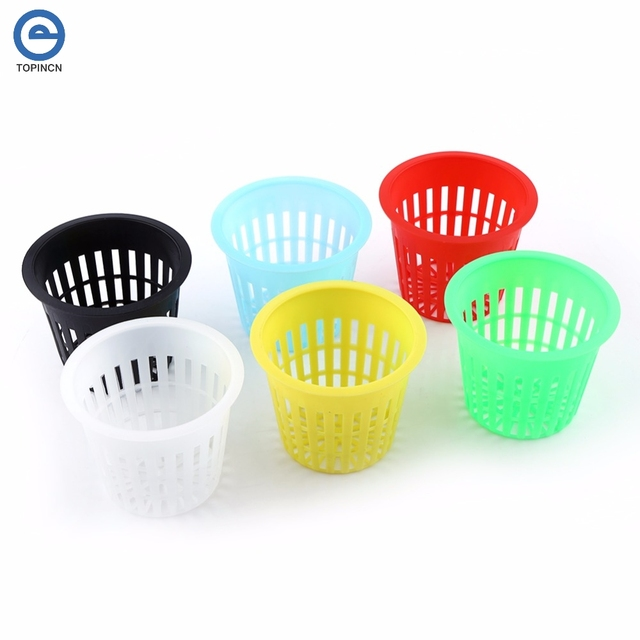basket: (48, 313, 247, 521), (249, 280, 429, 484), (441, 253, 623, 448), (12, 197, 198, 323), (205, 163, 378, 281), (369, 150, 551, 257)
